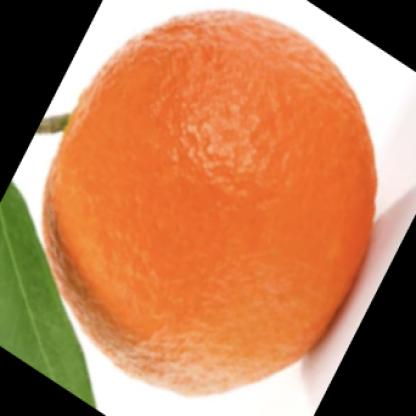fresh: (40, 13, 377, 398)
